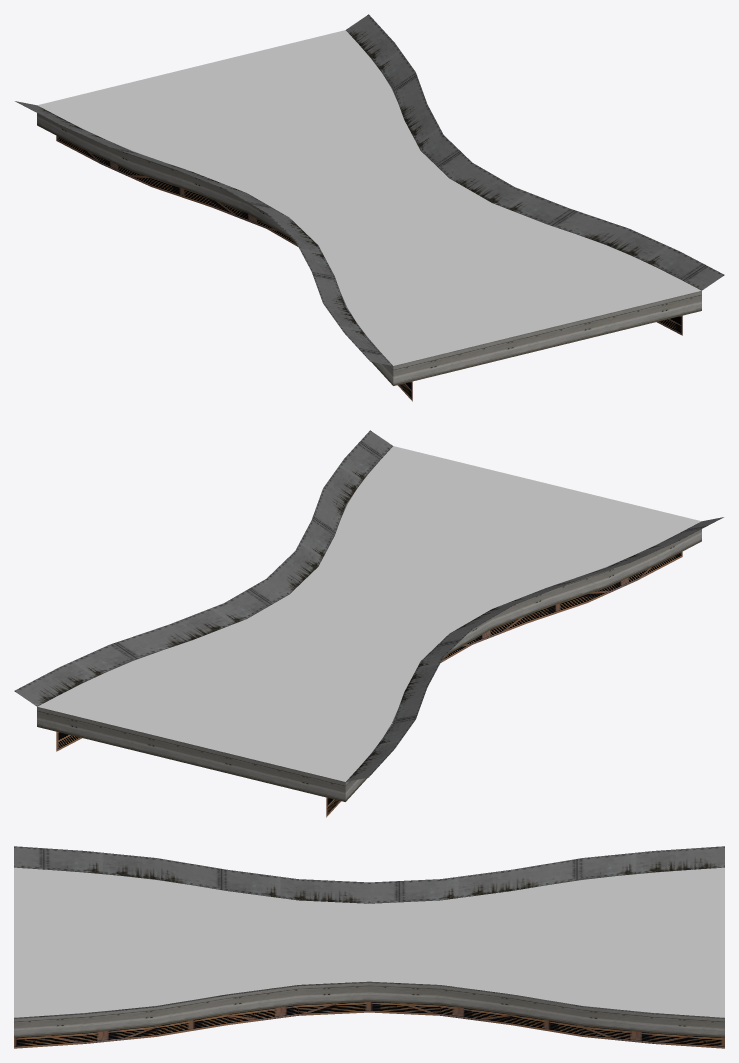
File: Chicane4.fbx
3 views of the same model, one above another, from view 1: azimuth 30°, elevation 25°; view 2: azimuth 150°, elevation 25°; view 3: azimuth 270°, elevation 25° (orthographic).
Parts seen in each view (by area): view 1: Empty_Mesh; view 2: Empty_Mesh; view 3: Empty_Mesh.
Part boxes in pixels (x1=…): Empty_Mesh: x1=15, y1=14, x2=724, y2=401; Empty_Mesh: x1=14, y1=430, x2=723, y2=817; Empty_Mesh: x1=14, y1=846, x2=724, y2=1048.
Size of the model in its own units: 18.4 by 2.5 by 32.
